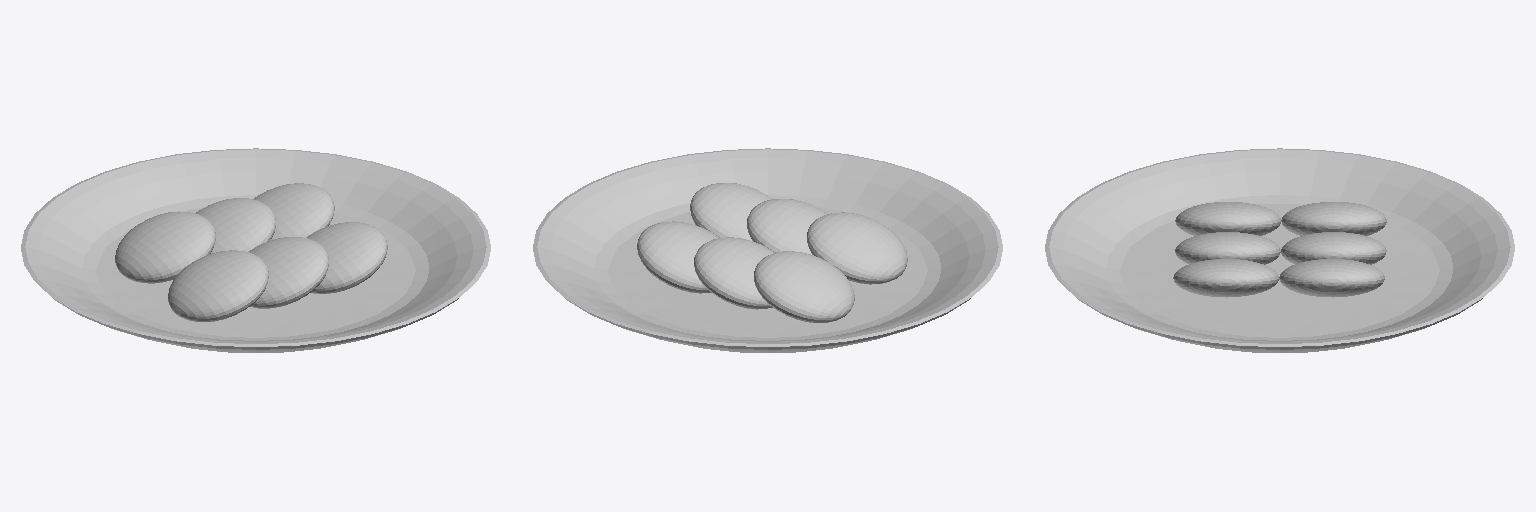
File: kue gemblong.obj
3 views of the same model, side by side, from view 1: azimuth 30°, elevation 25°; view 2: azimuth 150°, elevation 25°; view 3: azimuth 270°, elevation 25° (orthographic).
Parts seen in each view (by area): view 1: Cylinder, Sphere.008, Sphere.002, Sphere.007, Sphere.006, Sphere.001, Sphere; view 2: Cylinder, Sphere.002, Sphere.008, Sphere.001, Sphere, Sphere.007, Sphere.006; view 3: Cylinder, Sphere.006, Sphere, Sphere.008, Sphere.002, Sphere.001, Sphere.007.
Boxes of the visible parts, box(x1,y1,x2,y2) form: Cylinder: box(21, 148, 490, 352); Sphere.008: box(168, 250, 268, 321); Sphere.002: box(115, 211, 215, 283); Sphere.007: box(249, 237, 328, 308); Sphere.006: box(307, 222, 387, 293); Sphere.001: box(196, 198, 275, 253); Sphere: box(254, 183, 334, 240); Cylinder: box(533, 148, 1002, 352); Sphere.002: box(754, 251, 854, 322); Sphere.008: box(807, 212, 907, 284); Sphere.001: box(694, 237, 774, 309); Sphere: box(637, 221, 718, 293); Sphere.007: box(747, 199, 826, 254); Sphere.006: box(690, 183, 771, 240); Cylinder: box(1045, 148, 1514, 352); Sphere.006: box(1173, 259, 1278, 297); Sphere: box(1279, 259, 1384, 297); Sphere.008: box(1175, 202, 1280, 235); Sphere.002: box(1281, 202, 1386, 235); Sphere.001: box(1281, 232, 1386, 264); Sphere.007: box(1175, 232, 1280, 264).
Bounding box in the file's own units: 2.31 × 0.295 × 2.31.